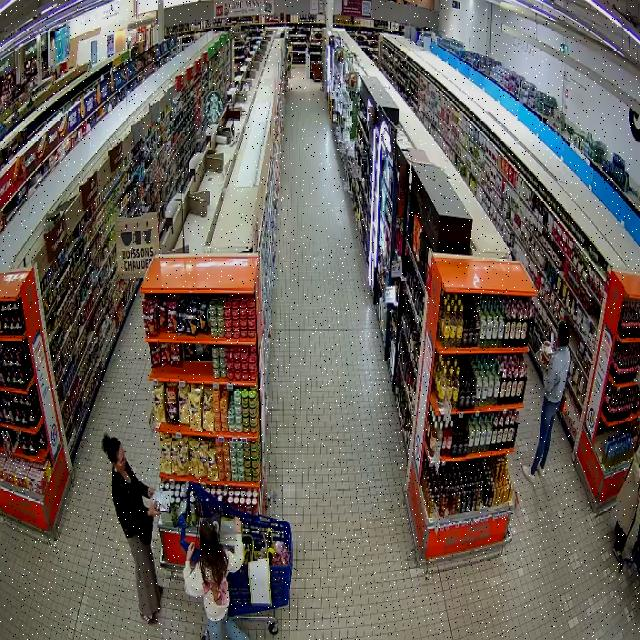article: (152, 491, 171, 512)
hands: (187, 543, 195, 561), (148, 504, 159, 517), (235, 517, 241, 533), (148, 487, 154, 497)
person: (103, 434, 162, 623), (183, 517, 248, 639), (522, 321, 570, 482)
